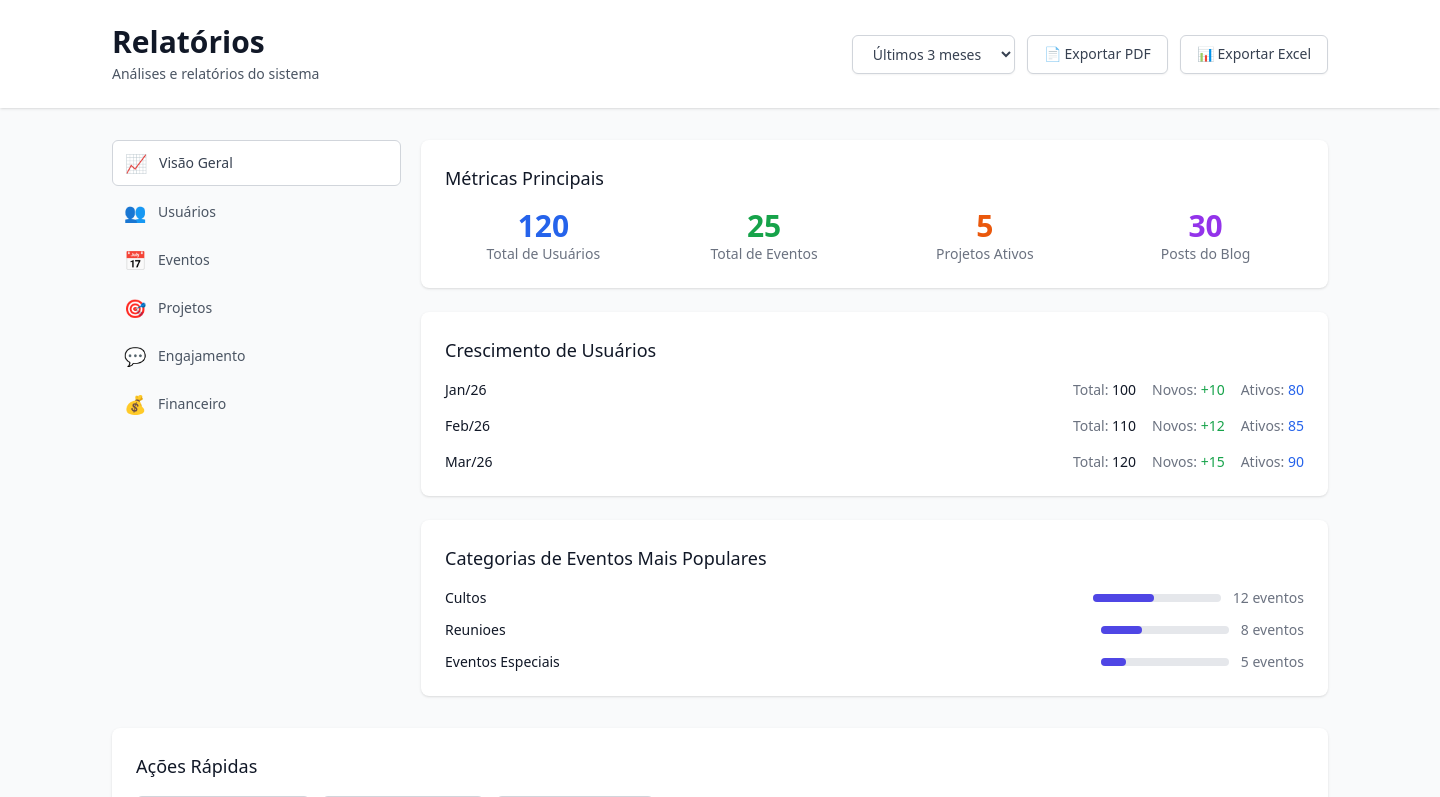
Test case: AdminReportsPage › Report Type Navigation › should switch to Users report
The width and height of the screenshot is (1440, 797).
Click the button "👥 Usuários". click: x=187, y=212
box: [112,190,401,234]
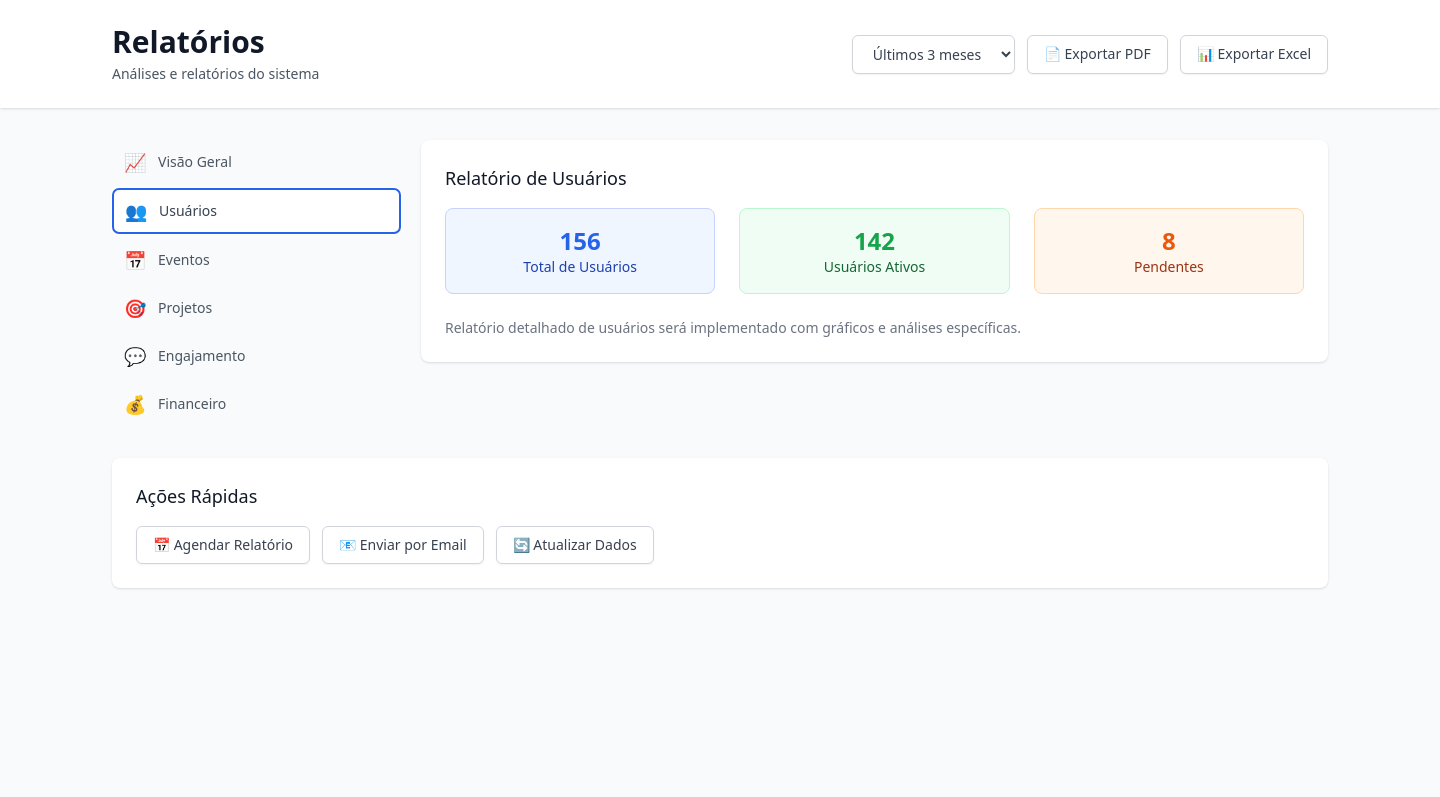
Check: the heading "Relatório de Usuários" is shown, box [445,166,627,190]
